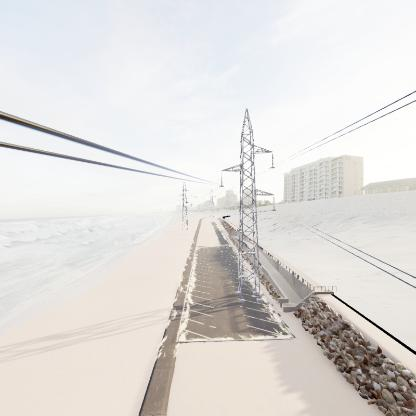tower: (218, 104, 279, 307)
